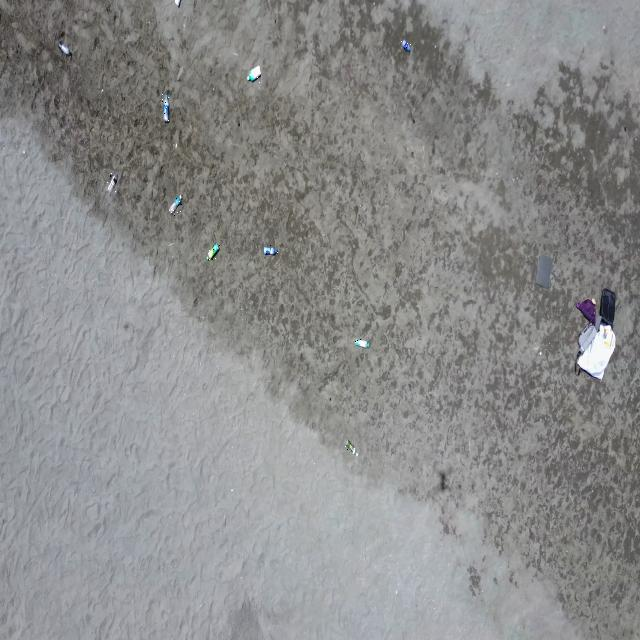Garbage: (575, 288, 615, 379), (576, 324, 615, 379), (577, 324, 597, 352), (600, 287, 615, 324), (535, 256, 552, 287), (575, 300, 595, 324), (105, 172, 118, 192), (161, 91, 169, 121), (168, 193, 180, 212), (56, 40, 71, 55), (206, 243, 219, 260), (247, 64, 260, 80), (345, 441, 356, 455), (353, 337, 368, 347), (439, 471, 447, 489), (263, 246, 278, 255), (402, 39, 411, 51), (175, 0, 180, 7), (602, 24, 606, 32)
